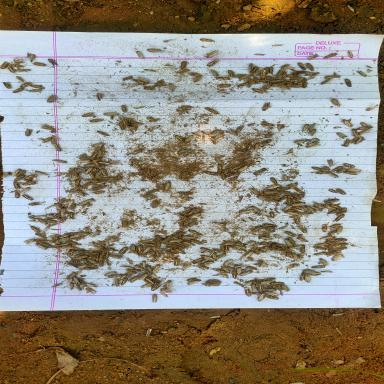pbw: (203, 106, 219, 115), (37, 122, 54, 130), (175, 104, 192, 112), (253, 167, 269, 175), (305, 140, 321, 148), (359, 121, 373, 130), (26, 200, 46, 206), (22, 127, 34, 137), (87, 185, 107, 191), (323, 52, 340, 59), (198, 254, 215, 261), (206, 49, 219, 58), (246, 88, 265, 94), (206, 59, 220, 67), (28, 224, 42, 232), (46, 58, 60, 66), (136, 76, 150, 84), (78, 198, 94, 205), (84, 286, 98, 294), (284, 263, 300, 270), (72, 282, 83, 292), (302, 268, 320, 274), (20, 180, 38, 186), (127, 275, 139, 284), (296, 224, 308, 233), (241, 63, 253, 72), (138, 246, 150, 255), (118, 246, 130, 255), (187, 229, 202, 236), (19, 81, 34, 88), (50, 159, 71, 164), (238, 270, 253, 277), (89, 230, 102, 238), (248, 187, 261, 195), (318, 258, 331, 266), (285, 182, 298, 190), (249, 225, 262, 233), (52, 202, 65, 210), (242, 280, 255, 288), (30, 84, 47, 90), (310, 166, 327, 172), (264, 184, 281, 190), (323, 198, 340, 204), (164, 182, 174, 192), (12, 180, 22, 190), (284, 238, 294, 248), (236, 209, 256, 214), (243, 286, 252, 297), (52, 143, 63, 152), (11, 168, 22, 177), (338, 250, 349, 259), (77, 278, 88, 287), (0, 61, 11, 70), (151, 282, 162, 291), (190, 257, 204, 264), (23, 173, 37, 180), (215, 252, 229, 259), (258, 195, 272, 202), (330, 254, 344, 261), (146, 125, 160, 132), (324, 240, 338, 247), (54, 237, 70, 243), (262, 222, 278, 228), (200, 260, 216, 266), (202, 170, 218, 176), (64, 272, 76, 280), (341, 119, 353, 127), (183, 135, 195, 143), (264, 290, 280, 296), (354, 136, 366, 144), (334, 214, 346, 222), (108, 254, 124, 260), (336, 188, 348, 196), (74, 254, 90, 260), (305, 205, 317, 213), (271, 84, 290, 89), (173, 248, 186, 255), (312, 201, 325, 208), (132, 78, 145, 85), (34, 231, 47, 238), (319, 77, 332, 84), (358, 128, 371, 135), (355, 70, 368, 77), (13, 174, 26, 181), (21, 194, 34, 201), (12, 57, 25, 64), (35, 243, 48, 250), (250, 205, 263, 212), (264, 294, 279, 300), (135, 50, 144, 60), (218, 171, 228, 180), (292, 252, 302, 261), (6, 65, 16, 74), (118, 114, 128, 123), (260, 102, 270, 111), (348, 128, 358, 137), (52, 243, 70, 248), (34, 170, 49, 176), (195, 264, 210, 270), (331, 98, 341, 107), (341, 138, 350, 148), (88, 118, 106, 123), (145, 265, 154, 275), (72, 276, 82, 285), (208, 68, 219, 76), (150, 293, 158, 304), (249, 66, 260, 74), (41, 136, 52, 144), (173, 134, 184, 142), (138, 272, 149, 280), (36, 217, 47, 225), (349, 136, 360, 144), (46, 94, 57, 102), (256, 294, 267, 302), (286, 237, 297, 245), (236, 81, 250, 87), (238, 74, 252, 80), (76, 263, 88, 270), (328, 223, 342, 229), (244, 265, 258, 271), (262, 226, 274, 233), (12, 87, 24, 94), (327, 171, 339, 178), (327, 208, 341, 214), (24, 238, 36, 245), (160, 288, 174, 294), (212, 268, 226, 274), (173, 218, 185, 225), (186, 212, 200, 218), (208, 129, 220, 136), (222, 265, 236, 271), (310, 205, 322, 212), (18, 187, 30, 194), (322, 204, 336, 210), (2, 80, 11, 89), (252, 246, 261, 255), (152, 264, 161, 273), (307, 122, 317, 130), (214, 132, 224, 140), (139, 238, 155, 243), (168, 238, 184, 243), (294, 186, 304, 194), (312, 251, 328, 256), (336, 166, 346, 174), (187, 219, 197, 227), (165, 279, 173, 289), (269, 176, 279, 184), (16, 169, 26, 177), (227, 128, 237, 136), (236, 125, 246, 133), (132, 162, 142, 170), (304, 274, 312, 284), (186, 277, 202, 282), (234, 280, 244, 288), (308, 53, 318, 61), (96, 130, 109, 136), (263, 132, 276, 138), (335, 210, 348, 216), (284, 230, 297, 236), (260, 69, 267, 80), (86, 257, 97, 264), (293, 77, 304, 84), (119, 118, 130, 125), (222, 258, 233, 265), (189, 208, 208, 212), (292, 139, 307, 144), (65, 231, 80, 236), (312, 243, 327, 248), (10, 63, 25, 68), (180, 241, 195, 246), (42, 218, 57, 223), (294, 237, 309, 242), (78, 156, 96, 160), (67, 211, 75, 220), (297, 62, 306, 70), (41, 242, 53, 248), (128, 158, 146, 162), (269, 210, 277, 219), (134, 265, 146, 271), (86, 282, 98, 288), (118, 273, 127, 281), (102, 257, 110, 266), (0, 172, 12, 178), (73, 232, 91, 236), (120, 277, 128, 286), (330, 203, 342, 209), (243, 155, 255, 161), (282, 284, 291, 292), (331, 166, 343, 172), (326, 188, 338, 194), (228, 187, 240, 193), (177, 191, 195, 195), (93, 174, 105, 180), (100, 168, 109, 176), (249, 283, 257, 292), (82, 112, 94, 118), (305, 63, 314, 71), (276, 68, 285, 76), (98, 257, 104, 269), (74, 178, 83, 186), (140, 283, 154, 288), (214, 158, 224, 165), (278, 195, 288, 202), (222, 245, 232, 252), (136, 244, 143, 254), (328, 229, 338, 236), (104, 271, 118, 276), (84, 167, 94, 174), (192, 76, 202, 83), (303, 207, 313, 214), (13, 189, 20, 199), (49, 283, 63, 288), (174, 213, 188, 218), (108, 159, 122, 164), (294, 216, 301, 226), (342, 163, 356, 168), (158, 291, 168, 298), (76, 189, 86, 196), (258, 236, 275, 240), (118, 266, 135, 270), (14, 68, 31, 72), (27, 88, 44, 92), (210, 222, 227, 226), (285, 84, 302, 88), (245, 240, 256, 246), (14, 76, 25, 82), (307, 138, 318, 144), (81, 258, 92, 264), (336, 208, 347, 214), (197, 259, 208, 265), (336, 132, 347, 138), (244, 251, 255, 257), (68, 176, 79, 182), (291, 194, 302, 200), (237, 166, 248, 172), (187, 280, 198, 286), (65, 240, 78, 245), (190, 239, 203, 244), (258, 241, 271, 246), (177, 149, 190, 154), (336, 242, 349, 247), (37, 237, 50, 242), (233, 73, 246, 78), (208, 249, 216, 257), (269, 281, 285, 285), (187, 72, 203, 76), (199, 38, 215, 42), (182, 218, 190, 226), (83, 266, 99, 270), (318, 236, 334, 240), (261, 277, 277, 281), (66, 278, 74, 286), (227, 69, 235, 77), (90, 150, 98, 158), (309, 128, 317, 136), (181, 235, 197, 239), (231, 245, 247, 249), (74, 268, 82, 276), (347, 50, 355, 58), (284, 212, 300, 216), (103, 112, 119, 116), (107, 274, 123, 278), (112, 278, 120, 286), (344, 78, 351, 87), (58, 216, 67, 223), (298, 78, 307, 85), (275, 284, 284, 291), (256, 284, 263, 293), (104, 250, 111, 259), (231, 270, 238, 279), (180, 60, 187, 69), (321, 223, 328, 232), (299, 272, 306, 281), (285, 251, 294, 258), (68, 203, 77, 210), (120, 104, 127, 113), (216, 84, 231, 88), (216, 164, 222, 174), (31, 62, 46, 66), (296, 207, 308, 212), (221, 241, 236, 245), (126, 125, 138, 130), (324, 252, 339, 256), (199, 247, 214, 251), (168, 82, 174, 92), (175, 69, 190, 73), (215, 76, 230, 80), (288, 246, 303, 250), (128, 83, 140, 88), (343, 171, 358, 175), (100, 247, 115, 251), (282, 206, 292, 212), (137, 270, 147, 276), (280, 63, 292, 68), (346, 168, 361, 172), (147, 48, 161, 52), (118, 123, 126, 130), (302, 124, 309, 132), (94, 170, 102, 177), (160, 247, 174, 251), (90, 143, 104, 147), (252, 75, 259, 83), (155, 242, 163, 249), (260, 122, 274, 126), (326, 244, 333, 252), (336, 226, 343, 234), (282, 172, 289, 180), (259, 280, 273, 284), (289, 76, 303, 80), (312, 246, 326, 250), (93, 160, 101, 167), (254, 52, 265, 57), (75, 168, 86, 173), (295, 211, 306, 216), (273, 242, 284, 247), (30, 53, 36, 62), (264, 66, 270, 75), (268, 66, 274, 75), (60, 207, 66, 216), (68, 282, 74, 291), (211, 252, 217, 261), (98, 161, 111, 165), (263, 191, 280, 194), (273, 234, 283, 239), (322, 75, 338, 78), (266, 79, 282, 82), (98, 148, 104, 156), (149, 118, 161, 122), (304, 72, 320, 75), (130, 244, 136, 252), (79, 166, 87, 172), (31, 215, 47, 218), (289, 203, 305, 206), (84, 179, 100, 182), (246, 144, 252, 152), (83, 163, 95, 167), (336, 246, 348, 250), (57, 198, 65, 204), (93, 191, 105, 195), (96, 92, 101, 101), (311, 265, 326, 268), (326, 239, 341, 242), (77, 160, 92, 163), (142, 280, 153, 284), (96, 180, 107, 184), (73, 253, 84, 257), (258, 79, 272, 82), (51, 137, 57, 144), (142, 87, 156, 90), (271, 44, 285, 47), (34, 241, 48, 244), (60, 246, 74, 249), (254, 143, 260, 150), (142, 69, 156, 72), (141, 260, 146, 268), (237, 267, 242, 275), (266, 82, 271, 90), (124, 271, 137, 274), (275, 187, 288, 190), (287, 209, 300, 212), (217, 272, 229, 275), (264, 288, 276, 291), (302, 82, 308, 88), (223, 168, 229, 174), (59, 235, 70, 238), (46, 217, 62, 219), (332, 238, 348, 240), (125, 269, 141, 271), (250, 292, 266, 294), (318, 270, 333, 272), (280, 67, 295, 69), (282, 72, 287, 78), (314, 172, 329, 174), (233, 265, 247, 267), (27, 220, 39, 222)
